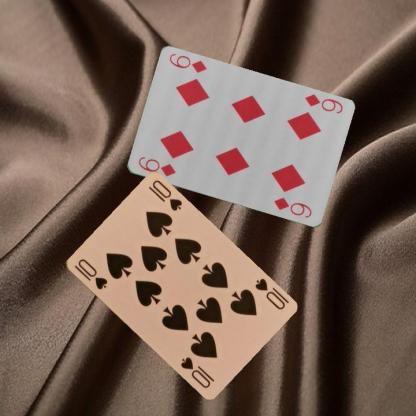10s: (71, 256, 109, 291), (252, 276, 286, 310)
6d: (301, 91, 344, 115), (135, 154, 177, 178)
